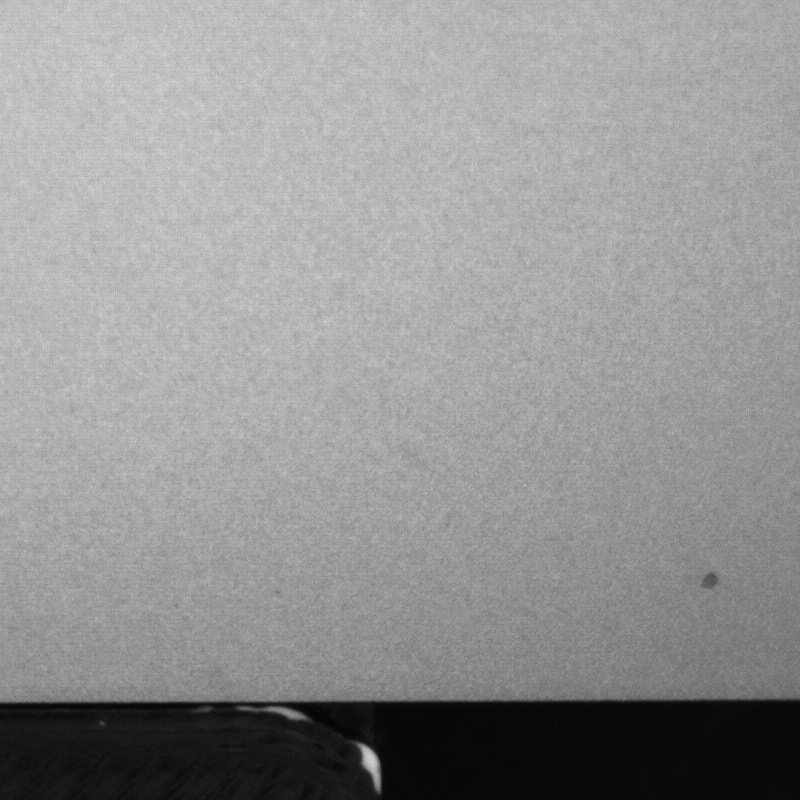defect: (698, 571, 726, 596), (272, 585, 287, 606)
